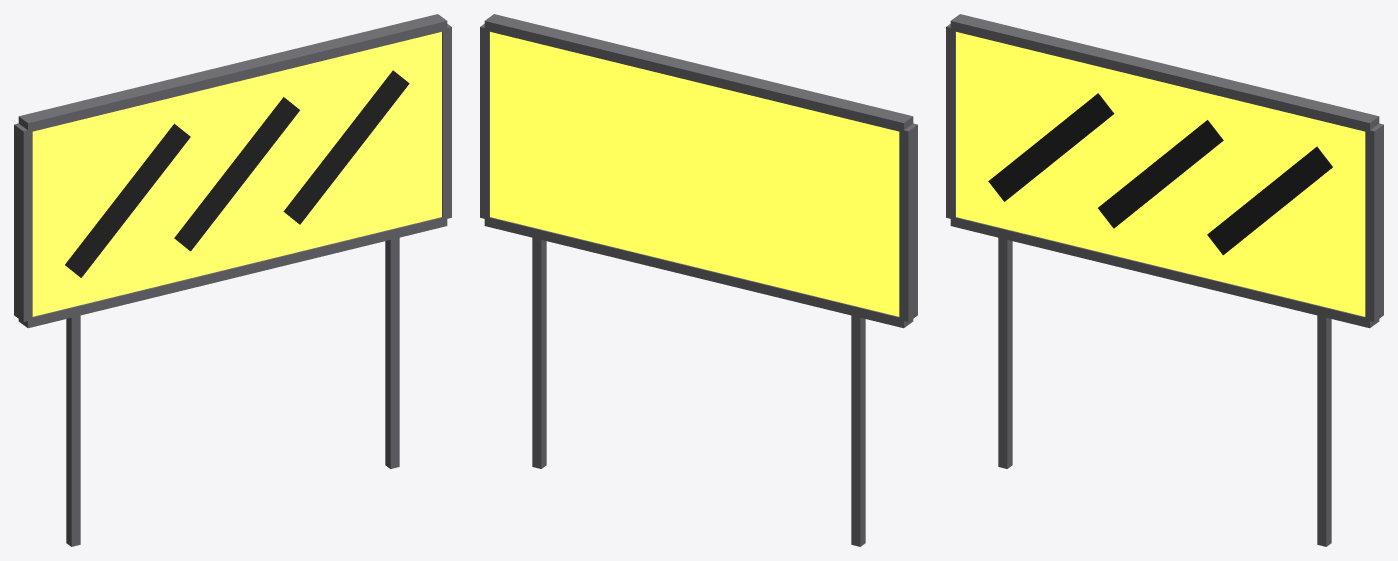
The model's file is billboard.glb.
The picture shows the model from 3 angles, left to right: view 1: azimuth 30°, elevation 25°; view 2: azimuth 150°, elevation 25°; view 3: azimuth 330°, elevation 25°; orthographic projection.
Visible parts, largest first — view 1: billboard; view 2: billboard; view 3: billboard.
Part boxes in pixels (x1,y1,x2,y2): billboard: [14, 14, 451, 546]; billboard: [480, 14, 917, 546]; billboard: [946, 14, 1383, 546].
Size of the model in its own units: 9.4 by 9.15 by 0.36.
